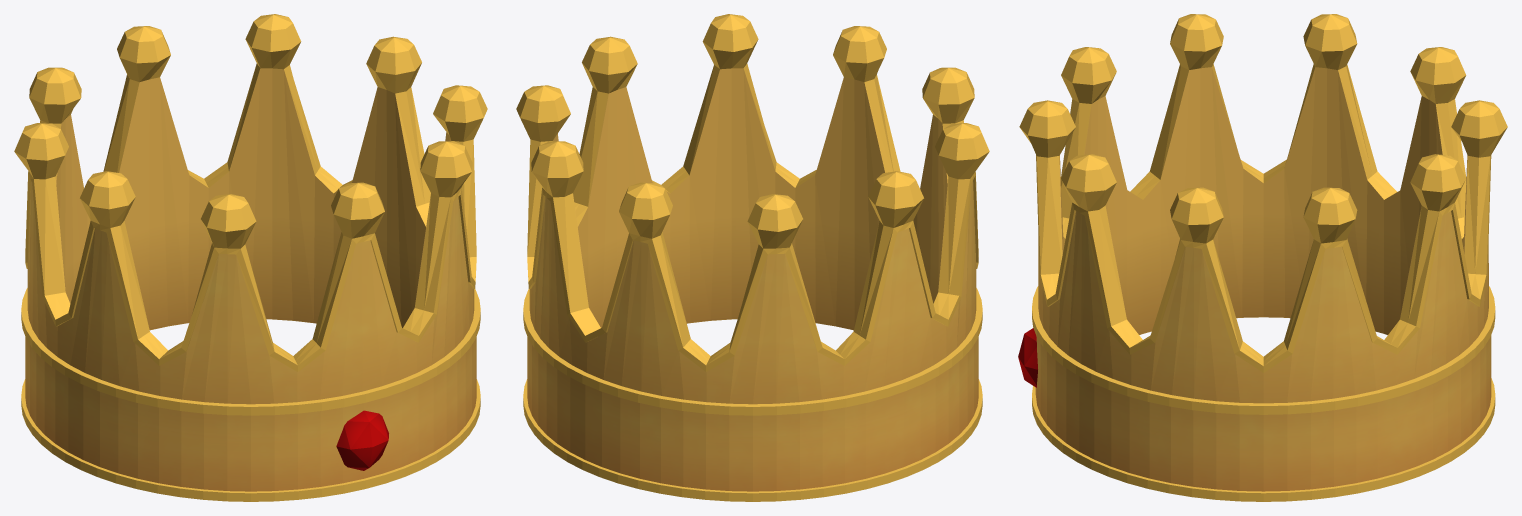
The model's file is Crown.FBX.
The picture shows the model from 3 angles, left to right: view 1: azimuth 30°, elevation 25°; view 2: azimuth 150°, elevation 25°; view 3: azimuth 270°, elevation 25°; orthographic projection.
Visible parts, largest first — view 1: Crown; view 2: Crown; view 3: Crown.
Boxes of the visible parts, x1,y1,x2,y2 form: Crown: (14, 14, 487, 501); Crown: (516, 14, 989, 501); Crown: (1018, 14, 1507, 501).
Size of the model in its own units: 32.12 by 23.09 by 33.86.
1 material, 1 textured.
